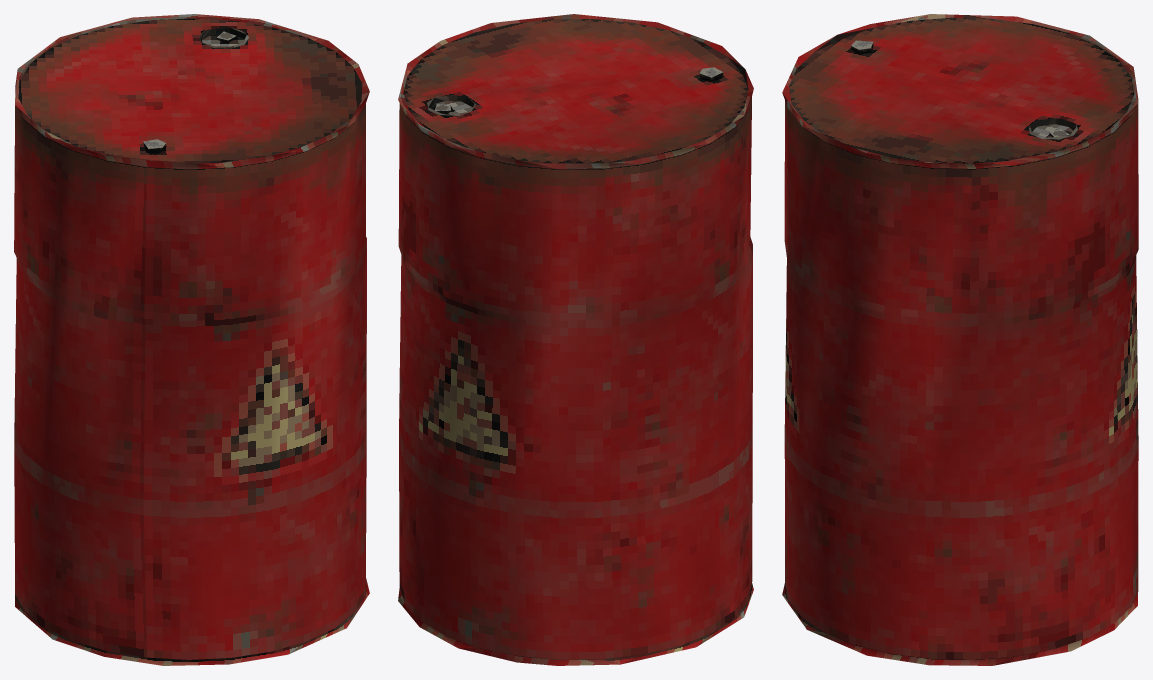
The model's file is Barrel_01.glb.
3 views of the same model, side by side, from view 1: azimuth 30°, elevation 25°; view 2: azimuth 150°, elevation 25°; view 3: azimuth 270°, elevation 25° (orthographic).
Parts seen in each view (by area): view 1: Barrel_01; view 2: Barrel_01; view 3: Barrel_01.
Part boxes in pixels (box(x1,y1,x2,y2)): Barrel_01: box(14, 14, 369, 665); Barrel_01: box(398, 14, 753, 665); Barrel_01: box(782, 14, 1138, 665).
Size of the model in its own units: 0.559 by 0.881 by 0.5625.
1 material, 1 textured.
